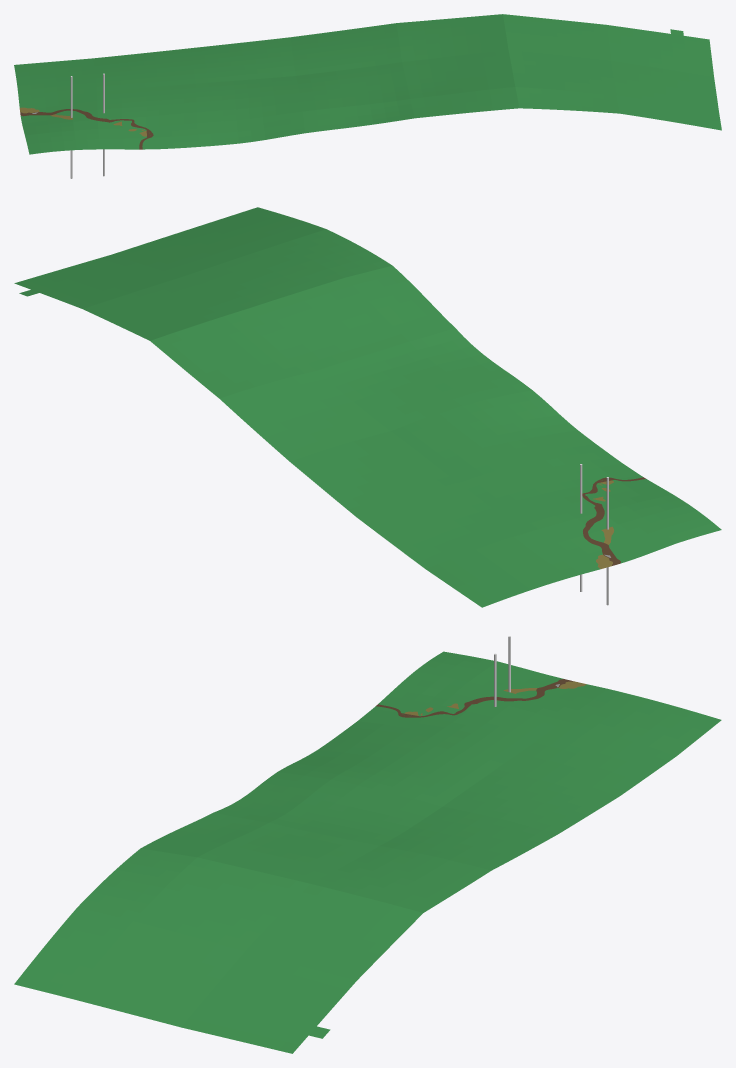
Rendered from Winding path.fbx.
3 renders of one model, top to bottom at view 1: azimuth 30°, elevation 25°; view 2: azimuth 150°, elevation 25°; view 3: azimuth 270°, elevation 25°, orthographic. The views are drawn at different scales.
Parts seen in each view (by area): view 1: base; view 2: base; view 3: base.
Part boxes in pixels (<box>): base: <box>14,14,721,154</box>; base: <box>14,207,721,607</box>; base: <box>14,651,721,1053</box>.
Bounding box in the file's own units: 3048 × 476 × 2235.
